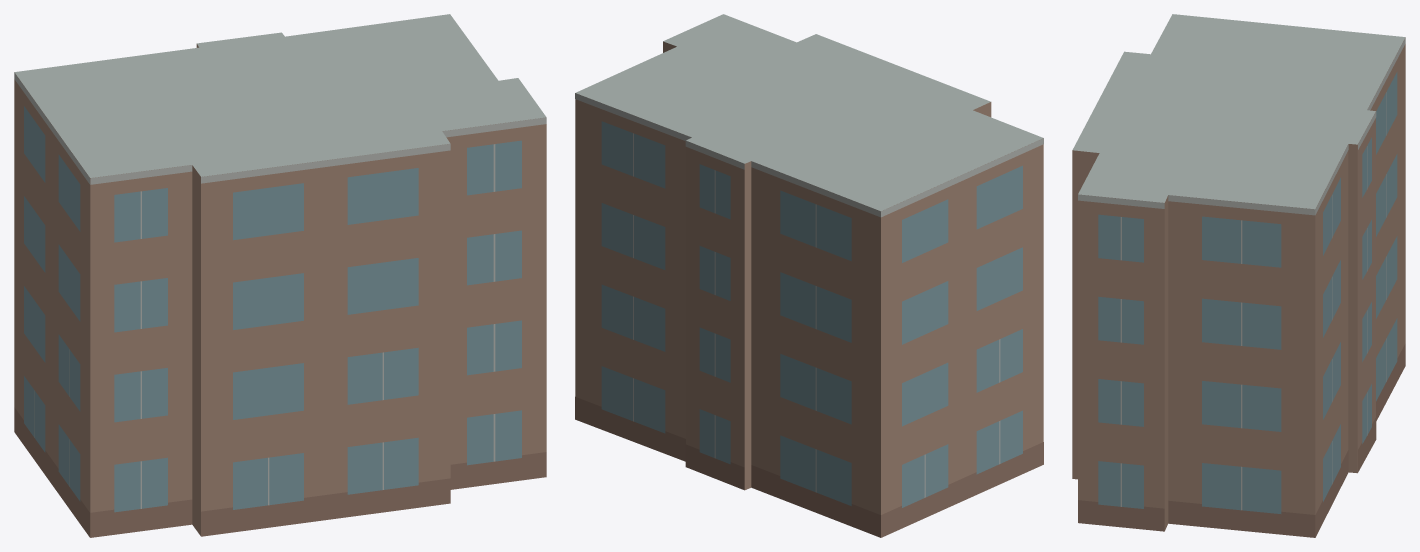
File: survey-upis-32697990.glb
3 renders of one model, left to right at view 1: azimuth 30°, elevation 25°; view 2: azimuth 150°, elevation 25°; view 3: azimuth 270°, elevation 25°, orthographic. The views are drawn at different scales.
Visible parts, largest first — view 1: survey-upis-32697990.tmp; view 2: survey-upis-32697990.tmp; view 3: survey-upis-32697990.tmp.
Boxes of the visible parts, bbox=[...] form: survey-upis-32697990.tmp: bbox=[14, 14, 546, 537]; survey-upis-32697990.tmp: bbox=[575, 14, 1043, 537]; survey-upis-32697990.tmp: bbox=[1072, 14, 1405, 537].
Size of the model in its own units: 16.58 by 13 by 11.96.
